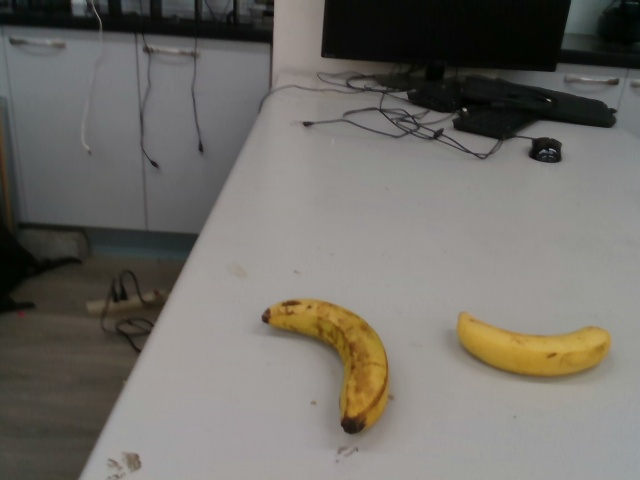banana: (259, 293, 390, 437), (454, 309, 613, 380)
